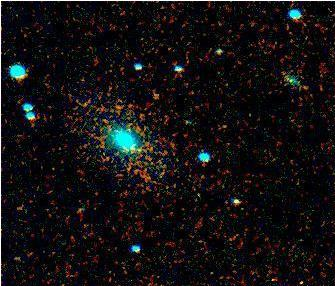star: (124, 138, 154, 168)
